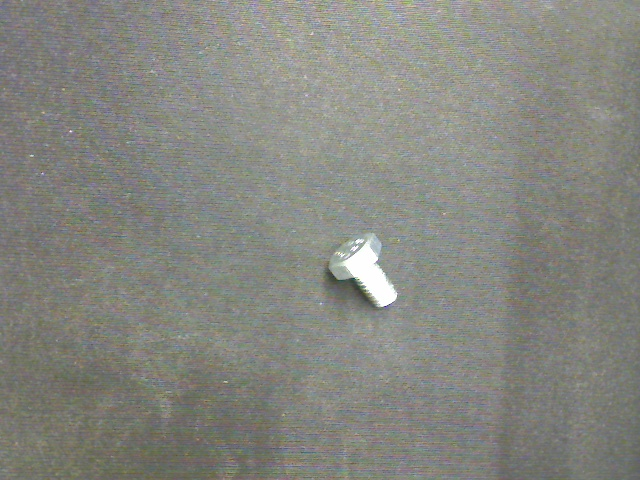screw: (329, 232, 398, 308)
